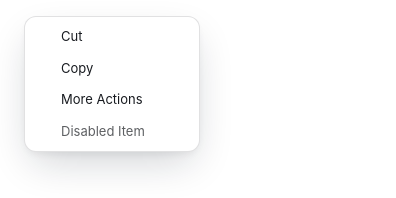
Test: EditorContextMenu.vue › opens submenu on mouseenter for items with children
Hover over the menu item "More Actions" at (112, 100), box [29,84,195,116]
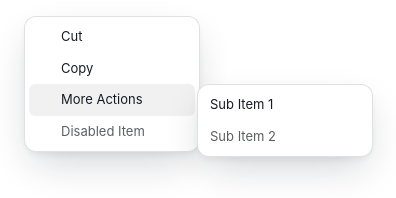
Expected: the number of menus with class "editor-context-menu" is 2, [24,16,200,152]; [197,84,373,157]
Expected: the text "Sub Item 1" is shown, [210,96,273,112]
